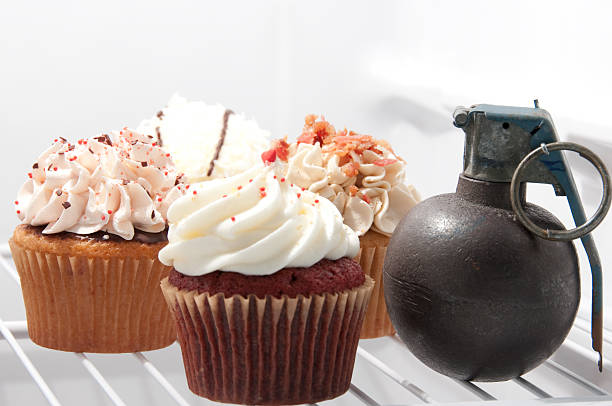e1: (382, 104, 607, 380)
